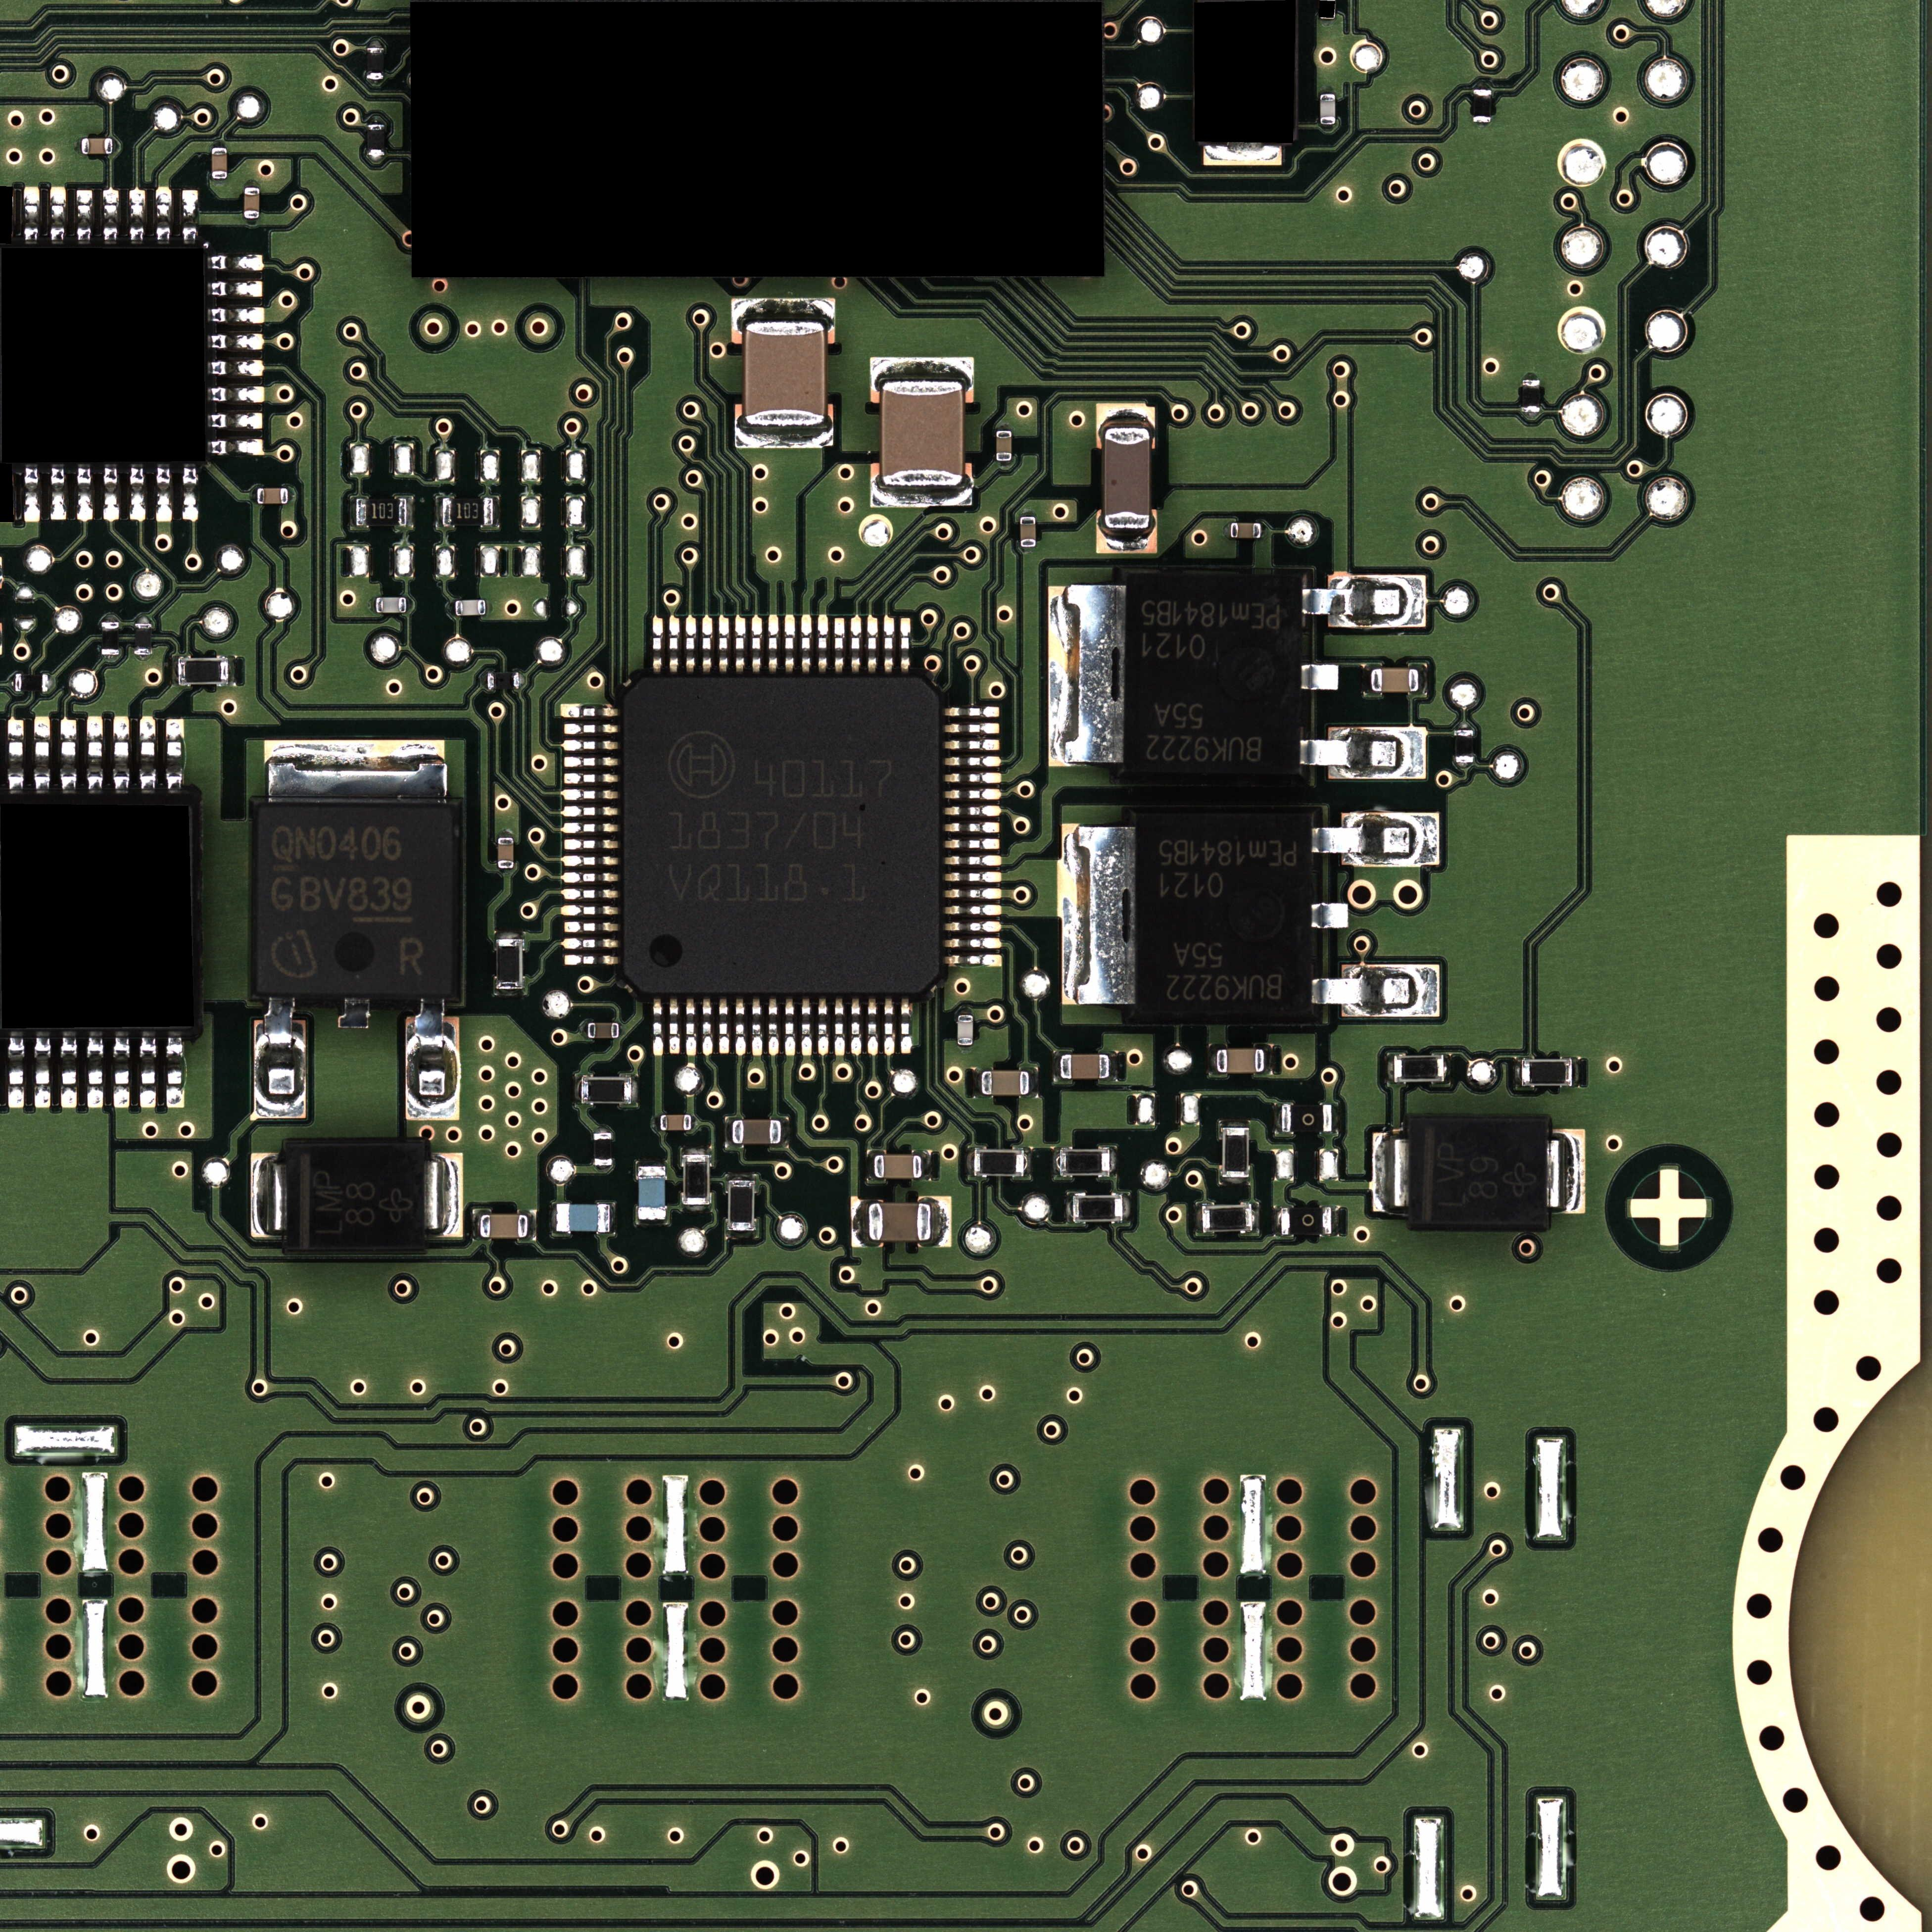Package: (619, 676, 945, 996), (257, 805, 456, 996), (1125, 573, 1300, 775), (1138, 814, 1311, 1017), (285, 1141, 425, 1251), (1408, 1116, 1546, 1226), (879, 380, 966, 485), (743, 322, 826, 426), (1102, 428, 1152, 527), (869, 1203, 931, 1242), (556, 1203, 610, 1231), (637, 1166, 665, 1219), (1281, 1104, 1332, 1132), (1281, 1207, 1332, 1235), (356, 499, 407, 525), (442, 499, 494, 525), (580, 1077, 632, 1104), (1522, 1060, 1573, 1086), (179, 658, 228, 685), (683, 1155, 709, 1205), (975, 1150, 1024, 1177), (1223, 1127, 1249, 1177), (1203, 1205, 1253, 1231), (1060, 1150, 1109, 1177), (1074, 1196, 1122, 1223), (729, 1180, 754, 1230), (497, 939, 522, 989), (1060, 1054, 1109, 1079), (1394, 1056, 1444, 1081), (980, 1070, 1030, 1095), (1215, 1049, 1265, 1074), (479, 1214, 527, 1238), (732, 1120, 780, 1145), (1371, 667, 1419, 692), (874, 1155, 922, 1178), (366, 124, 386, 157), (1474, 88, 1493, 122), (1522, 380, 1541, 414), (1454, 731, 1474, 763), (14, 674, 48, 692), (487, 672, 520, 690), (594, 1132, 612, 1166), (134, 623, 152, 655), (366, 48, 384, 80), (101, 623, 119, 655), (81, 138, 113, 154), (257, 488, 288, 504), (212, 147, 228, 179), (497, 837, 513, 869), (587, 1023, 619, 1039), (660, 1115, 692, 1131), (996, 430, 1012, 462), (1230, 522, 1261, 538), (455, 600, 485, 616), (244, 188, 260, 218), (1320, 94, 1336, 124), (1021, 517, 1037, 547), (957, 1016, 973, 1046), (375, 598, 407, 612)
Solder: (1047, 584, 1123, 768), (1062, 823, 1136, 1005), (265, 738, 446, 805), (1300, 725, 1428, 780), (1300, 573, 1428, 628), (1313, 812, 1438, 867), (1313, 964, 1440, 1017), (405, 1000, 460, 1120), (253, 998, 306, 1118), (426, 1154, 464, 1238), (1548, 1129, 1585, 1214), (1371, 1132, 1407, 1214), (249, 1154, 283, 1238), (731, 297, 835, 322), (734, 425, 833, 448), (870, 485, 973, 506), (870, 357, 973, 379), (1097, 403, 1155, 428), (1203, 147, 1281, 165), (166, 1033, 184, 1108), (166, 718, 184, 791), (113, 717, 129, 793), (60, 718, 76, 793), (87, 717, 103, 791), (140, 717, 156, 791), (62, 1033, 78, 1108), (87, 1033, 103, 1108), (1100, 529, 1152, 552), (113, 1035, 129, 1108), (9, 718, 23, 793), (35, 718, 50, 793), (11, 1033, 25, 1108), (35, 1033, 50, 1108), (142, 1033, 156, 1108), (207, 386, 264, 403), (23, 465, 41, 522), (932, 1196, 952, 1247), (1302, 663, 1339, 690), (1313, 902, 1350, 929), (209, 306, 264, 324), (209, 412, 264, 430), (156, 465, 173, 520), (129, 465, 147, 520), (209, 280, 262, 297), (340, 998, 370, 1028), (50, 186, 65, 242), (103, 186, 119, 242), (50, 464, 65, 520), (76, 464, 92, 520), (103, 464, 119, 520), (182, 464, 198, 520), (851, 1198, 869, 1247), (23, 188, 39, 242), (209, 255, 264, 271), (129, 188, 145, 242), (209, 333, 264, 349), (207, 361, 262, 377), (559, 704, 619, 718), (76, 189, 92, 242), (182, 189, 198, 242), (209, 439, 262, 455), (156, 186, 170, 242), (561, 904, 619, 916), (561, 888, 619, 901), (561, 855, 619, 867), (561, 805, 619, 817), (561, 789, 619, 801), (800, 614, 812, 672), (734, 998, 747, 1056), (685, 998, 697, 1056), (750, 998, 763, 1056), (833, 998, 846, 1056), (563, 839, 619, 851), (701, 616, 713, 672), (734, 616, 747, 672), (750, 616, 763, 672), (849, 616, 862, 672), (901, 998, 913, 1054), (849, 1000, 862, 1056), (883, 1000, 895, 1056), (800, 1000, 812, 1056), (784, 1000, 796, 1056), (563, 938, 617, 950), (563, 740, 617, 752), (945, 706, 1000, 718), (945, 755, 1000, 768), (945, 805, 1000, 817), (945, 855, 1000, 867), (945, 954, 1000, 966), (945, 904, 1000, 916), (945, 920, 1000, 932), (564, 755, 617, 768), (561, 872, 619, 883), (561, 823, 619, 833), (817, 614, 828, 672), (784, 614, 794, 672), (669, 998, 679, 1056), (718, 998, 729, 1056), (702, 998, 713, 1056), (768, 998, 778, 1056), (817, 998, 828, 1056), (653, 616, 663, 672), (563, 922, 619, 932), (669, 616, 679, 672), (685, 616, 695, 672), (718, 616, 729, 672), (883, 616, 893, 672), (867, 616, 878, 672), (768, 616, 778, 672), (653, 1000, 663, 1056), (867, 1000, 878, 1056), (901, 617, 911, 672), (833, 617, 844, 672), (563, 724, 617, 734), (945, 724, 1000, 734), (945, 740, 1000, 750), (945, 773, 1000, 784), (945, 789, 1000, 800), (945, 888, 1000, 899), (945, 823, 1000, 833), (945, 839, 1000, 849), (945, 872, 1000, 883), (945, 938, 1000, 948), (564, 955, 617, 966), (564, 773, 617, 784), (971, 1067, 982, 1099), (922, 1150, 932, 1180), (635, 1219, 669, 1228), (494, 931, 525, 939), (865, 1150, 874, 1182), (681, 1146, 713, 1155), (966, 1146, 975, 1178), (725, 1231, 757, 1240), (1419, 663, 1428, 695), (1219, 1177, 1251, 1185), (1444, 1053, 1453, 1085), (472, 1210, 481, 1240), (780, 1116, 789, 1146), (527, 1210, 536, 1240), (681, 1205, 711, 1214), (1362, 665, 1371, 695), (1030, 1067, 1039, 1097), (1332, 1207, 1341, 1237), (1194, 1203, 1203, 1233), (1109, 1146, 1118, 1177), (1109, 1051, 1118, 1081), (1208, 1046, 1217, 1074), (1053, 1053, 1062, 1081), (1122, 1194, 1131, 1223), (573, 1074, 580, 1106), (635, 1159, 667, 1166), (494, 989, 525, 996), (632, 1074, 639, 1106), (1219, 1120, 1251, 1127), (1053, 1146, 1060, 1178), (1387, 1053, 1394, 1085), (435, 497, 442, 527), (494, 497, 501, 527), (349, 497, 356, 527), (407, 497, 414, 527), (172, 656, 179, 686), (725, 1173, 755, 1180), (725, 1116, 732, 1146), (1065, 1192, 1072, 1223), (1332, 1104, 1339, 1134), (1274, 1207, 1281, 1237), (1274, 1104, 1281, 1134), (1265, 1044, 1272, 1074), (1253, 1203, 1260, 1233), (1024, 1148, 1031, 1178), (1514, 1058, 1522, 1088), (1573, 1058, 1580, 1088), (228, 656, 235, 685), (610, 1203, 616, 1233), (550, 1203, 556, 1233), (101, 655, 122, 662), (593, 1125, 614, 1132), (593, 1166, 614, 1173), (1472, 81, 1493, 88), (111, 138, 120, 154), (446, 600, 455, 616), (479, 672, 488, 688), (1320, 124, 1336, 133), (957, 1007, 973, 1016), (1522, 412, 1541, 419), (366, 80, 384, 87), (366, 41, 384, 48), (405, 598, 414, 612), (48, 674, 55, 692), (134, 616, 152, 623), (368, 598, 377, 612), (485, 600, 494, 614), (1474, 122, 1491, 129), (1522, 373, 1539, 380), (1320, 19, 1338, 27), (244, 180, 260, 188), (74, 138, 81, 154), (368, 156, 384, 163), (520, 672, 527, 688), (497, 830, 513, 837), (1320, 87, 1336, 94), (996, 423, 1012, 430), (1223, 522, 1230, 538), (1261, 522, 1269, 538), (1456, 763, 1472, 770), (244, 218, 258, 225), (368, 117, 382, 124), (211, 179, 228, 184), (101, 616, 119, 621), (134, 655, 152, 660), (251, 488, 257, 504), (288, 488, 294, 504), (9, 674, 14, 690), (499, 869, 515, 874), (655, 1115, 660, 1131), (692, 1115, 697, 1131), (582, 1023, 587, 1039), (619, 1023, 625, 1039), (996, 462, 1012, 467), (1021, 547, 1037, 552), (957, 1046, 973, 1051), (1456, 724, 1472, 729), (212, 142, 226, 147), (1021, 511, 1035, 517)
